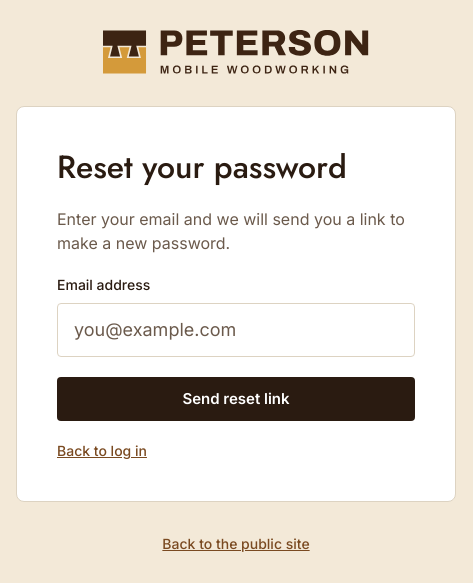
Test: ForgotPasswordPage › shows the invalid email error and sends nothing
Type "girlie@example" into the field labelled "Email address" at coordinates (236, 330), box top-left (57, 303), bottom-right (415, 357)
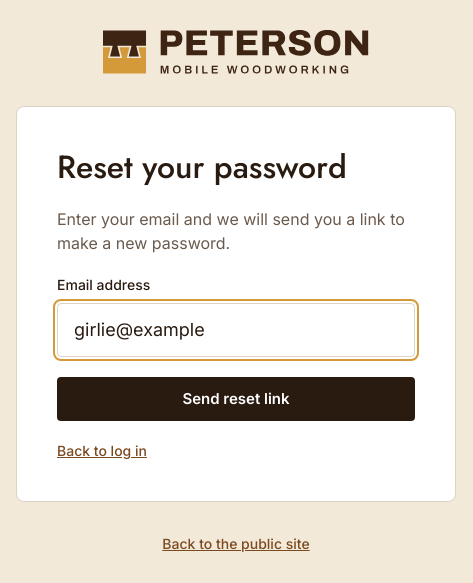
Click the button "Send reset link" at coordinates (236, 399), box top-left (57, 377), bottom-right (415, 421)
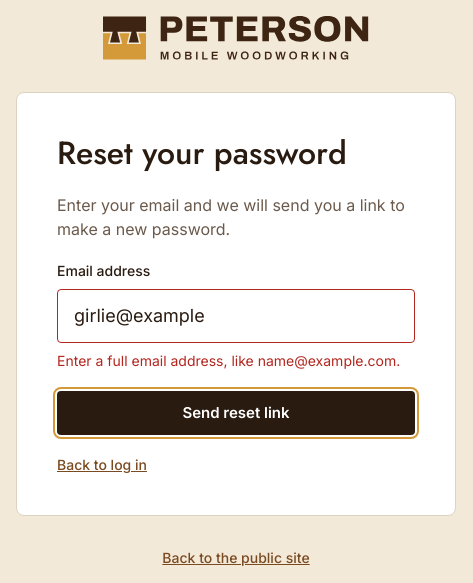
expect the text "Enter a full email address, like name@example.com." is shown: met, box top-left (57, 351), bottom-right (415, 371)
